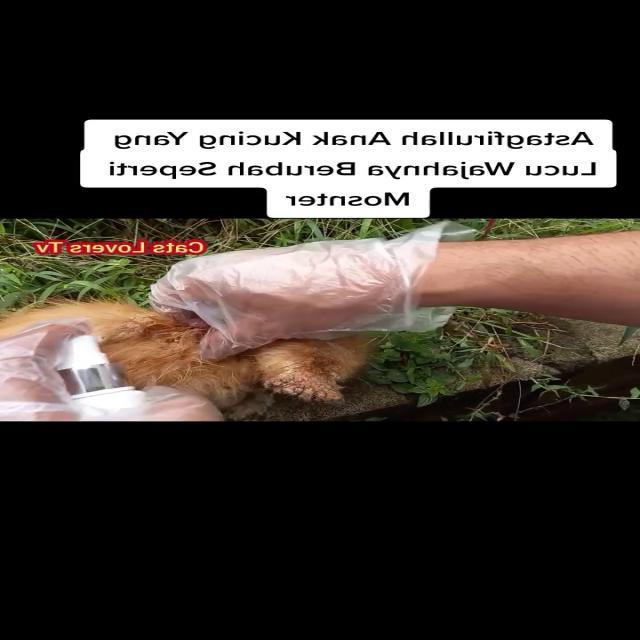ghe: (258, 358, 348, 410)
